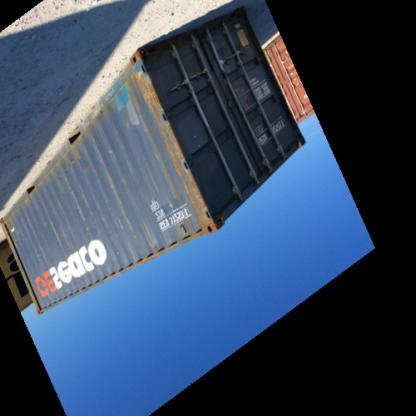Damage: (128, 64, 216, 231), (88, 153, 127, 223), (50, 221, 78, 258), (28, 245, 51, 274), (142, 223, 160, 256), (5, 218, 21, 244)
